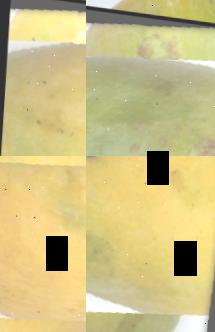PartiallyRipe: (86, 156, 215, 332), (0, 0, 86, 156)
Ripe: (0, 156, 86, 332)
Unripe: (86, 6, 215, 156)
